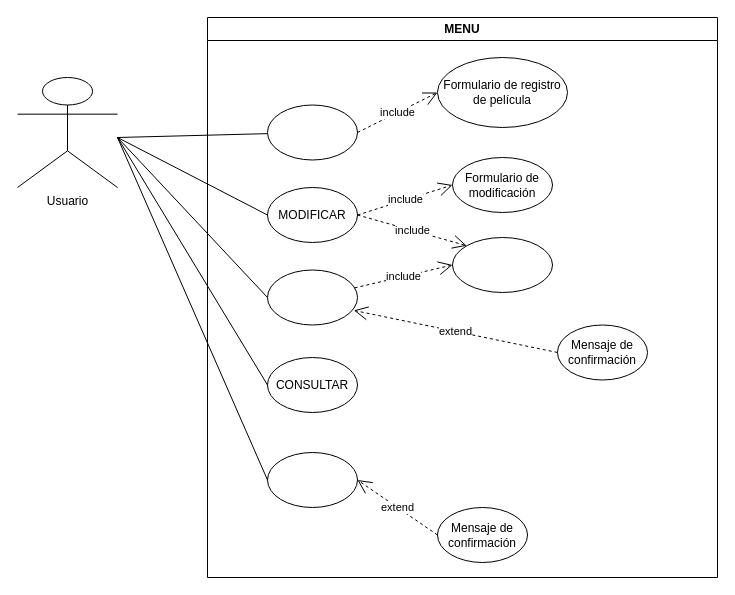
Some shapes in this 735 by 595 pixel diagram are drawn without their labels. Each missing label, with the box of its shape:
Barra buscadora: (452, 236, 552, 292)
BORRAR: (266, 269, 358, 325)
GUARDAR PELÍCULA: (266, 104, 358, 160)
SALIR: (266, 452, 358, 508)
